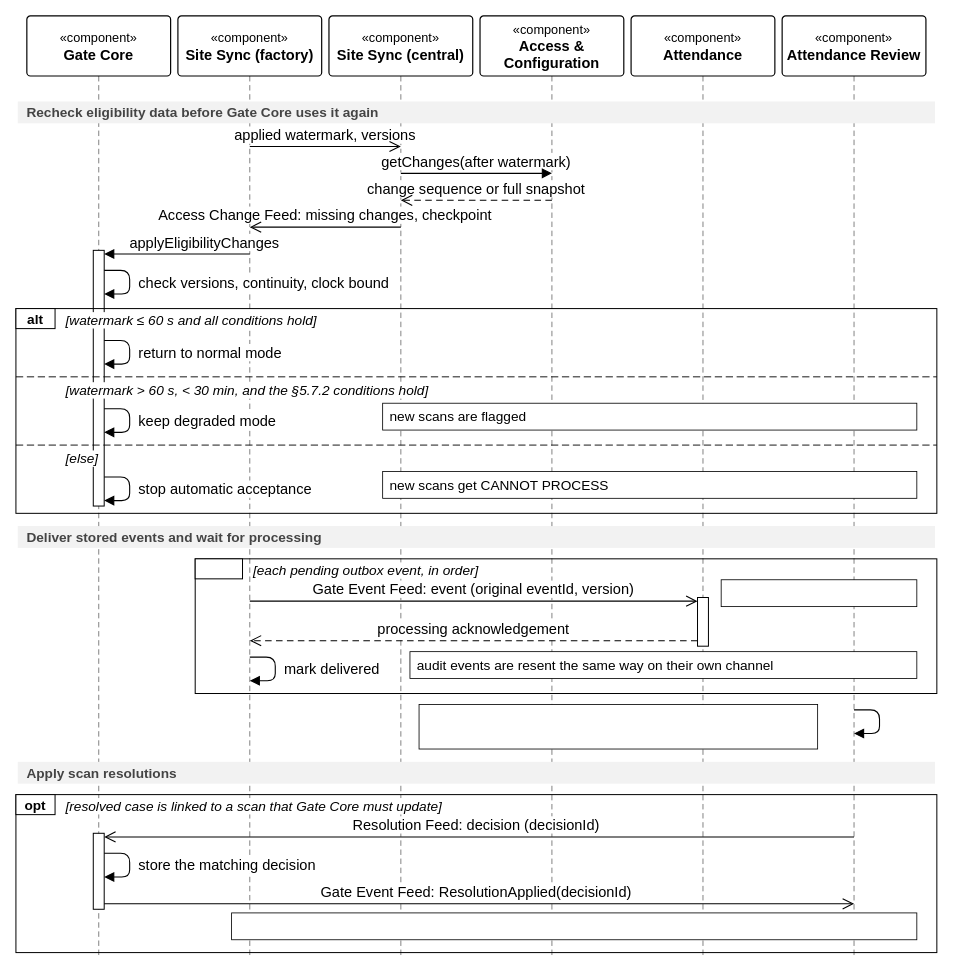
Image size: 955x974. Some labels were removed from this diagram. The centre of each missing label's shape, as x and y in pixels:
"applied once per eventId" goes at pixel 818 593.
"applying the decision to Attendance is tracked separately (§4.2.3, B6–B8)" goes at pixel 574 926.
"compare DEGRADED transactions with applied changes; open review cases" goes at pixel 618 726.
"loop" goes at pixel 218 568.
